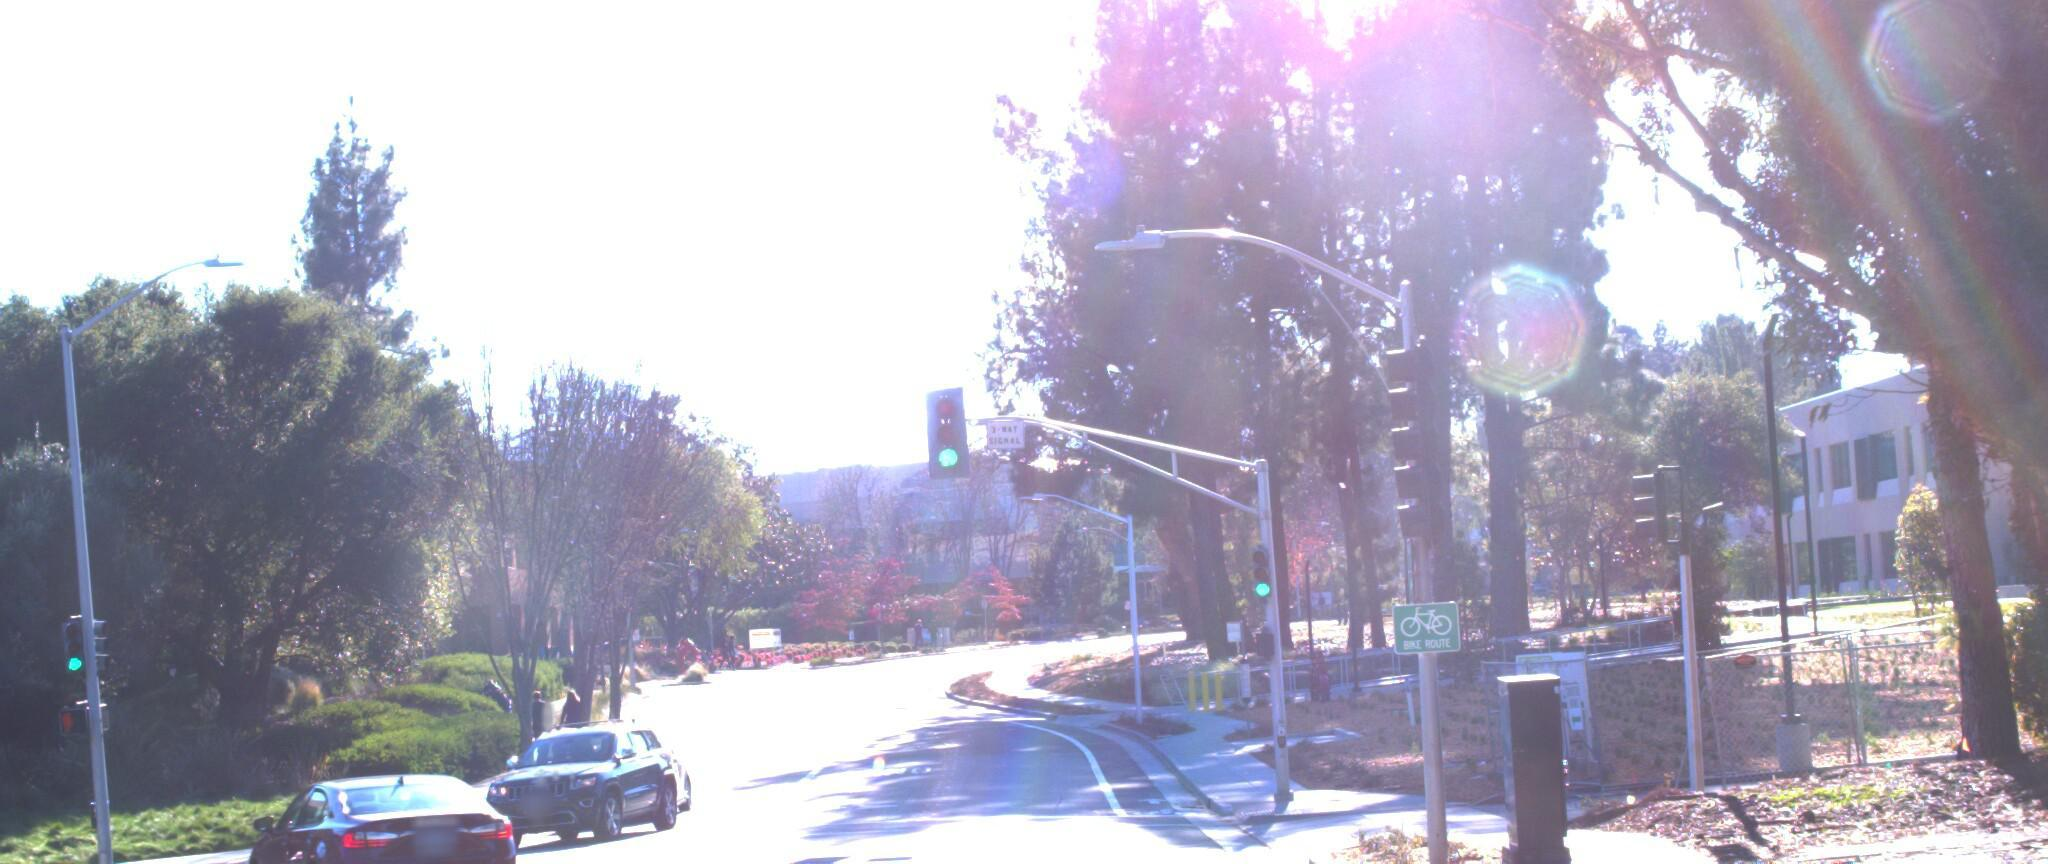car: (196, 730, 552, 864), (469, 717, 703, 857)
